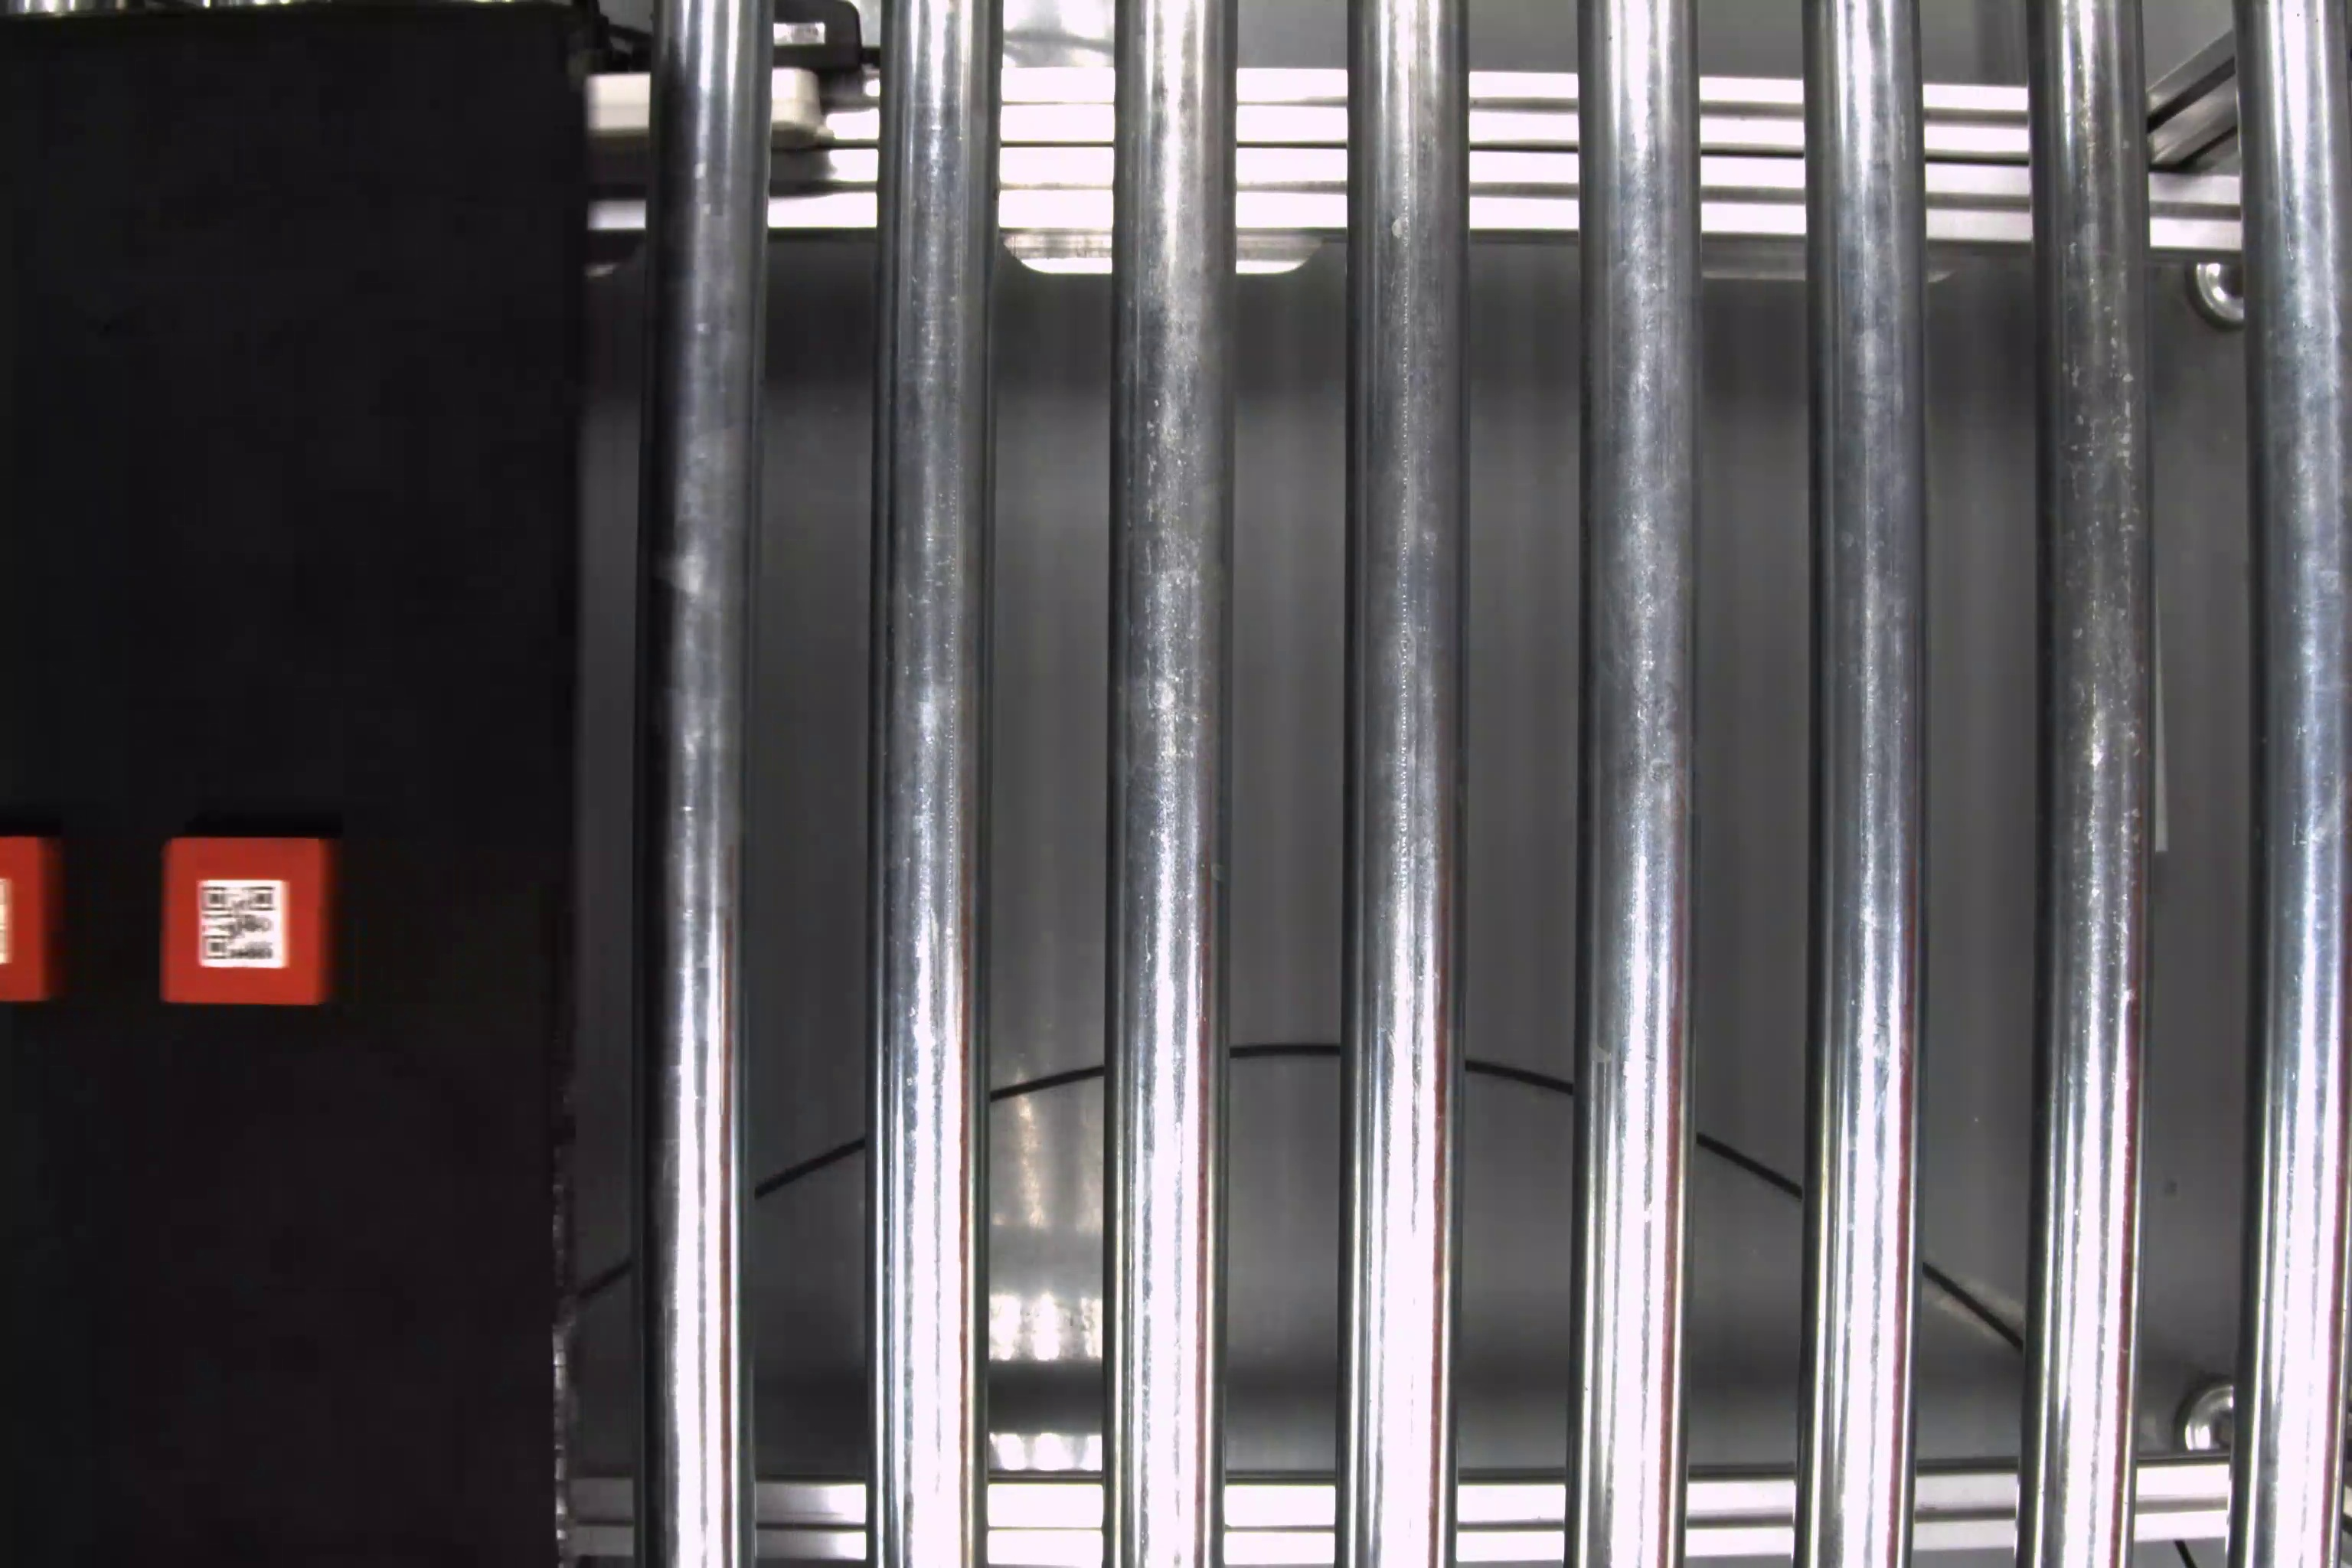wood: (163, 828, 346, 1011), (3, 831, 75, 1004)
